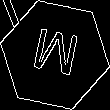M_S: (28, 26, 82, 84)
